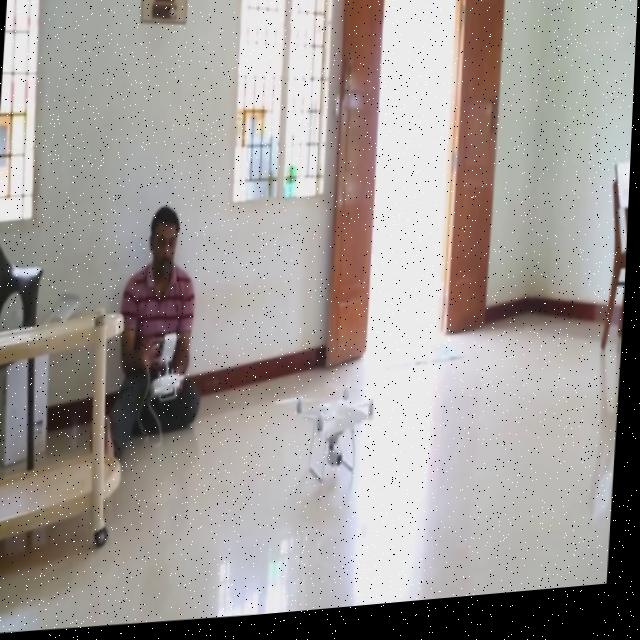drones: (257, 351, 423, 541)
